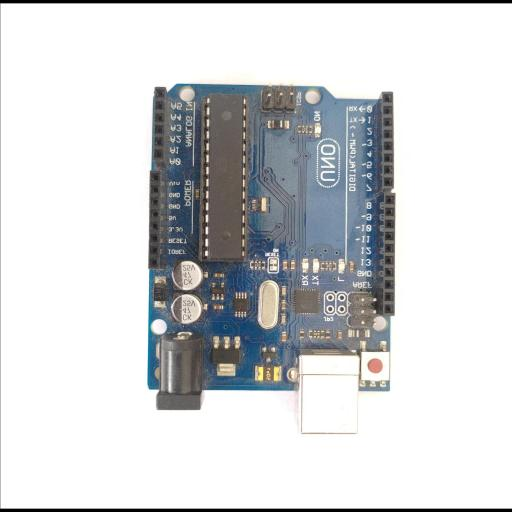Arduino Uno R3: (146, 82, 396, 420)
